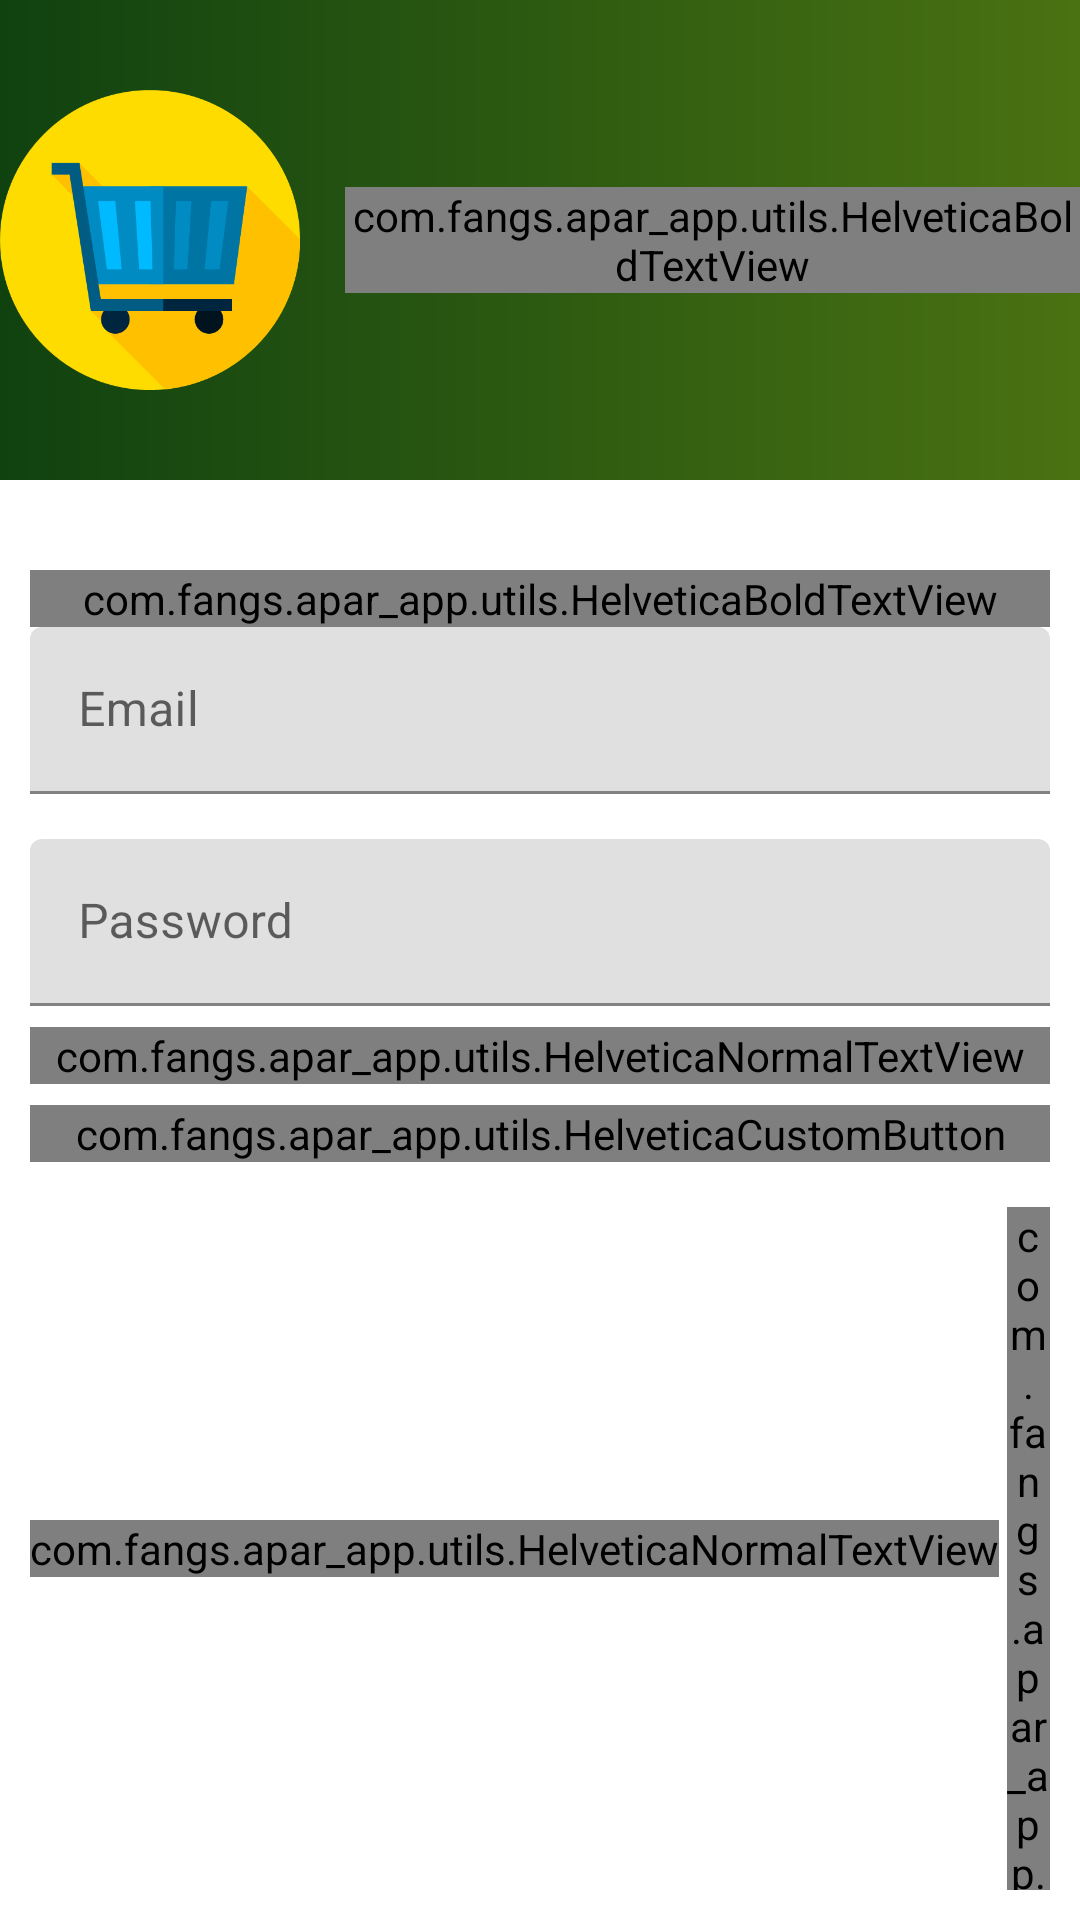

Named icons in this screenshot (1080px x 1920px) and their centers, (x,y):
shopping cart: (150,240)
